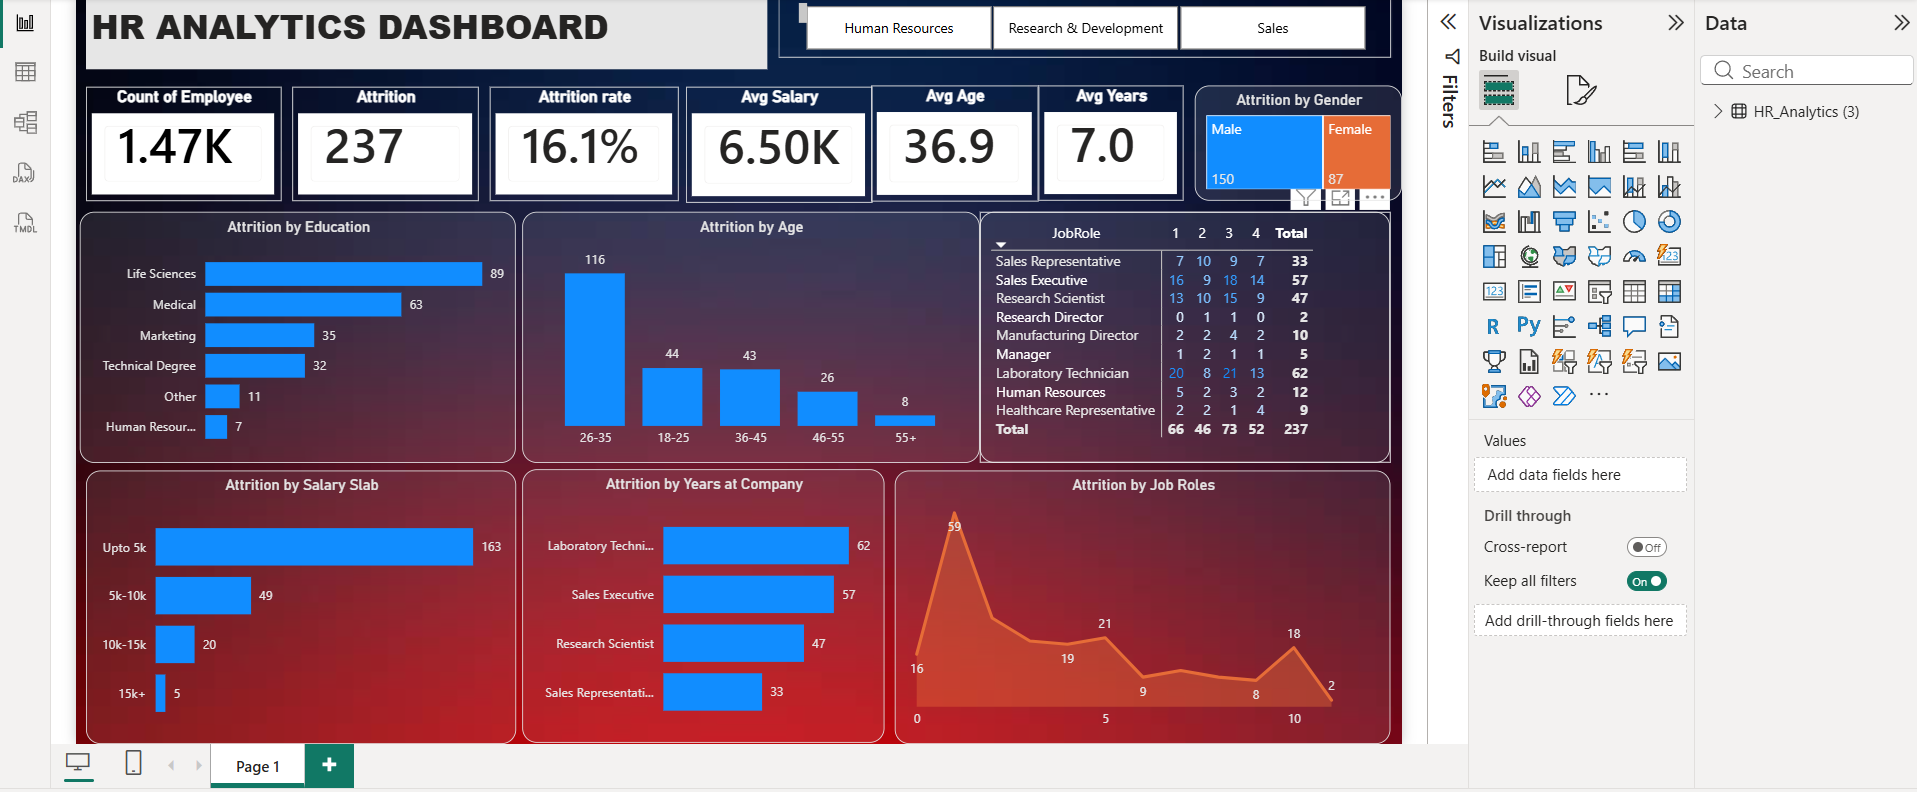

What the dashboard file says about the page in this screenshot:
{"tool":"powerbi","page":{"name":"Page 1","canvas":[1280,720],"ordinal":0},"visuals":[{"type":"cardVisual","title":"Count of Employee","fields":{"Data":["CountNonNull(HR_Analytics (3).EmpID)"]},"box":[10,86.2,188.8,110],"z":0},{"type":"cardVisual","title":"Attrition","fields":{"Data":["Sum(HR_Analytics (3).AttritionCount)"]},"box":[208.8,86.2,180,110],"z":1000},{"type":"cardVisual","title":"Attrition rate","fields":{"Data":["HR_Analytics (3).AttritionRate"]},"box":[398.8,86.2,182.5,110],"z":2000},{"type":"cardVisual","title":"Avg Salary","fields":{"Data":["Avg(HR_Analytics (3).MonthlyIncome)"]},"box":[588.7,85.7,179.8,112.2],"z":3000},{"type":"cardVisual","title":"Avg Age","fields":{"Data":["Avg(HR_Analytics (3).Age)"]},"box":[767.3,84.5,161.7,112.2],"z":4000},{"type":"cardVisual","title":"Avg Years","fields":{"Data":["Avg(HR_Analytics (3).YearsAtCompany)"]},"box":[928.8,85,140,111.2],"z":5000},{"type":"barChart","title":"Attrition by Education","fields":{"Category":["HR_Analytics (3).EducationField"],"Y":["Sum(HR_Analytics (3).AttritionCount)"]},"box":[3.6,206.3,421,242.5],"z":6000},{"type":"columnChart","title":"Attrition by Age","fields":{"Category":["HR_Analytics (3).AgeGroup"],"Y":["Sum(HR_Analytics (3).AttritionCount)"]},"box":[431.2,206.2,441.2,242.5],"z":7000},{"type":"pivotTable","fields":{"Rows":["HR_Analytics (3).JobRole"],"Columns":["HR_Analytics (3).JobSatisfaction"],"Values":["Sum(HR_Analytics (3).AttritionCount)"]},"box":[872.5,206.2,396.2,242.5],"z":8000},{"type":"barChart","title":"Attrition by Salary Slab","fields":{"Category":["HR_Analytics (3).SalarySlab"],"Y":["Sum(HR_Analytics (3).AttritionCount)"]},"box":[9.7,456,415,264.2],"z":9000},{"type":"barChart","title":"Attrition by Years at Company","fields":{"Category":["HR_Analytics (3).JobRole"],"Y":["Sum(HR_Analytics (3).AttritionCount)"]},"box":[430.7,454.8,349.9,264.2],"z":10000},{"type":"areaChart","title":"Attrition by Job Roles","fields":{"Category":["HR_Analytics (3).YearsAtCompany"],"Y":["Sum(HR_Analytics (3).AttritionCount)"]},"box":[790,456.2,478.8,263.8],"z":11000},{"type":"treemap","title":"Attrition by Gender","fields":{"Group":["HR_Analytics (3).Gender"],"Values":["Sum(HR_Analytics (3).AttritionCount)"]},"box":[1080,85,200,111.2],"z":12000},{"type":"slicer","fields":{"Values":["HR_Analytics (3).Department"]},"box":[677.5,0,591.2,57.5],"z":13000},{"type":"textbox","box":[10,0,701.2,33.8],"z":14000},{"type":"textbox","box":[10,0,657.5,68.8],"z":15000}]}

Visuals, with their boxes in screenshot pixels (x1, y1, x2, y2):
"Count of Employee" cardVisual: left=75, top=80, right=273, bottom=196
"Attrition" cardVisual: left=284, top=80, right=473, bottom=196
"Attrition rate" cardVisual: left=483, top=80, right=674, bottom=196
"Avg Salary" cardVisual: left=682, top=80, right=871, bottom=198
"Avg Age" cardVisual: left=870, top=79, right=1039, bottom=196
"Avg Years" cardVisual: left=1039, top=79, right=1186, bottom=196
"Attrition by Education" barChart: left=69, top=206, right=510, bottom=461
"Attrition by Age" columnChart: left=517, top=206, right=980, bottom=461
pivotTable - HR_Analytics (3).JobRole x HR_Analytics (3).JobSatisfaction: left=980, top=206, right=1395, bottom=461
"Attrition by Salary Slab" barChart: left=75, top=468, right=510, bottom=745
"Attrition by Years at Company" barChart: left=517, top=467, right=883, bottom=744
"Attrition by Job Roles" areaChart: left=893, top=468, right=1395, bottom=745
"Attrition by Gender" treemap: left=1197, top=79, right=1407, bottom=196
slicer - HR_Analytics (3).Department: left=775, top=0, right=1395, bottom=50
textbox: left=75, top=0, right=811, bottom=25
textbox: left=75, top=0, right=765, bottom=62
